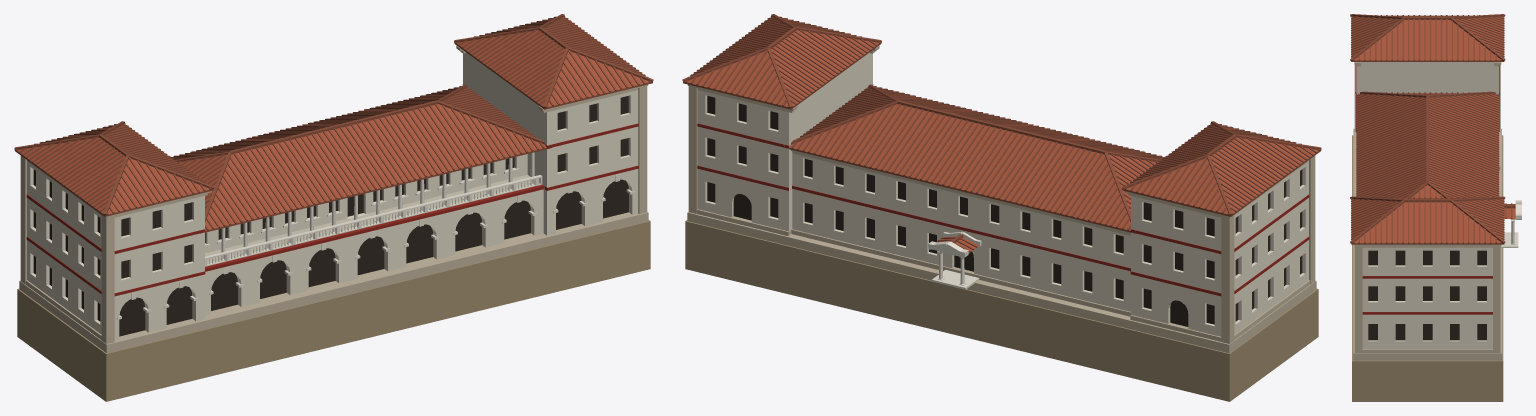
The model's file is ant_wing.glb.
The picture shows the model from 3 angles, left to right: view 1: azimuth 30°, elevation 25°; view 2: azimuth 150°, elevation 25°; view 3: azimuth 270°, elevation 25°; orthographic projection. The views are drawn at different scales.
Parts seen in each view (by area): view 1: ant_wing; view 2: ant_wing; view 3: ant_wing.
Part boxes in pixels (left/top/right/bottom): ant_wing: left=14, top=14, right=653, bottom=401; ant_wing: left=682, top=14, right=1321, bottom=401; ant_wing: left=1350, top=14, right=1521, bottom=401.
Size of the model in its own units: 61.45 by 22.63 by 19.53.
